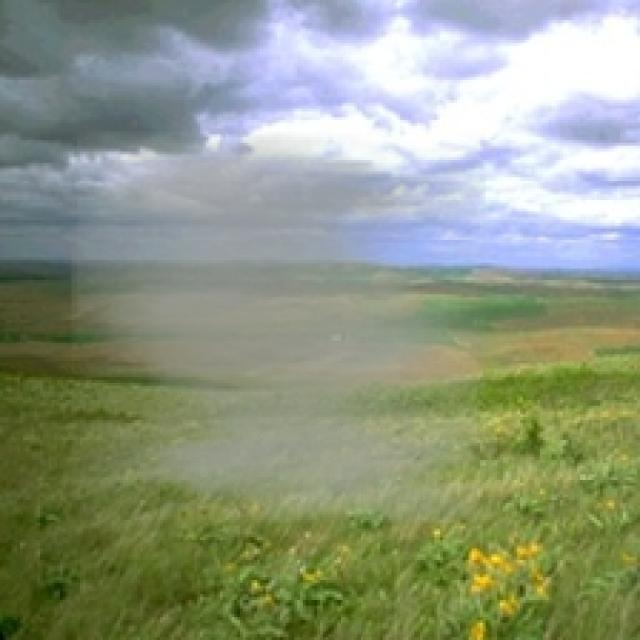Smoke: (71, 131, 486, 523)
